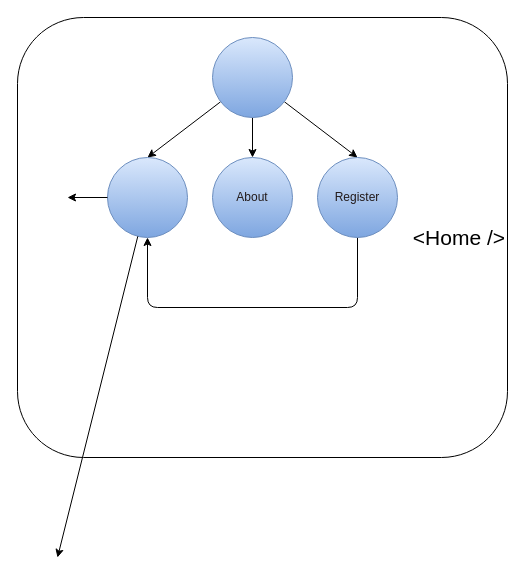
This 525x583 diagram has some shape labels left out. The shapes that lost their labels are listed below. From the top down, each one's box as (x1, y1, x2, y2) in pixels, then its label:
(212, 36, 292, 118): Header
(106, 156, 188, 238): Login
